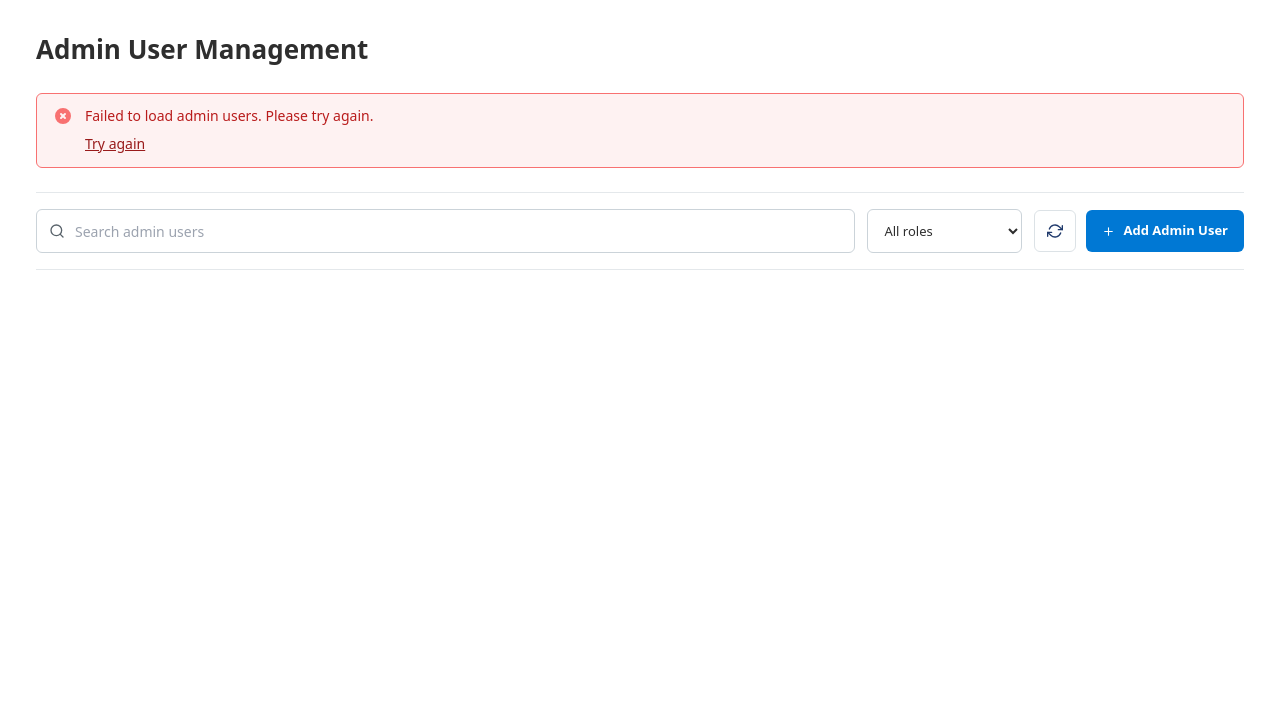
Test: load errors are not empty results and refresh can recover
Expected: the text "Failed to load admin users. Please try again." is shown, [85, 106, 374, 125]
Click the button named "Refresh admin users" at (1056, 231), box [1034, 210, 1076, 252]
(page scrolled)
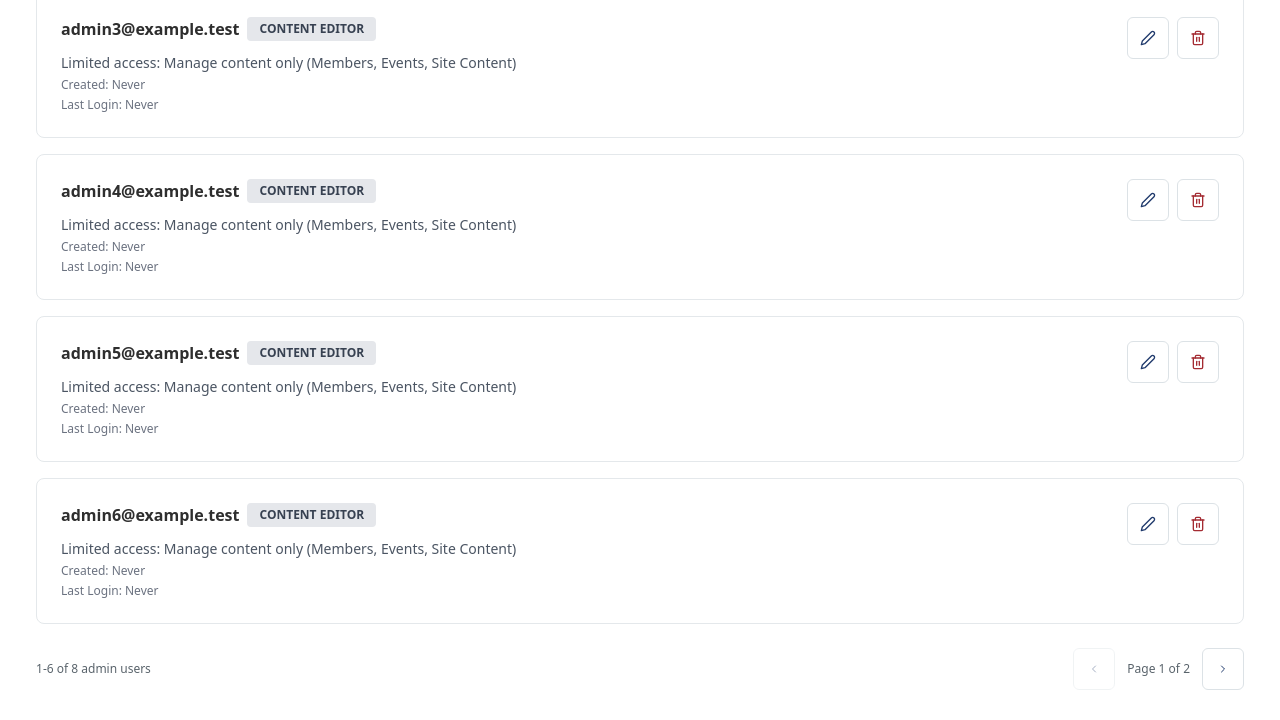
Expected: the text "1-6 of 8 admin users" is shown, [36, 660, 151, 678]
